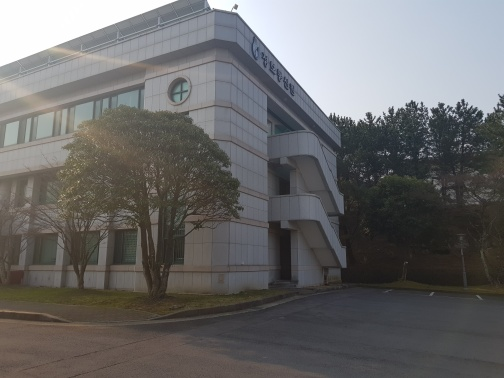Information Telecommunication Center: (7, 20, 350, 293), (251, 33, 309, 111)
